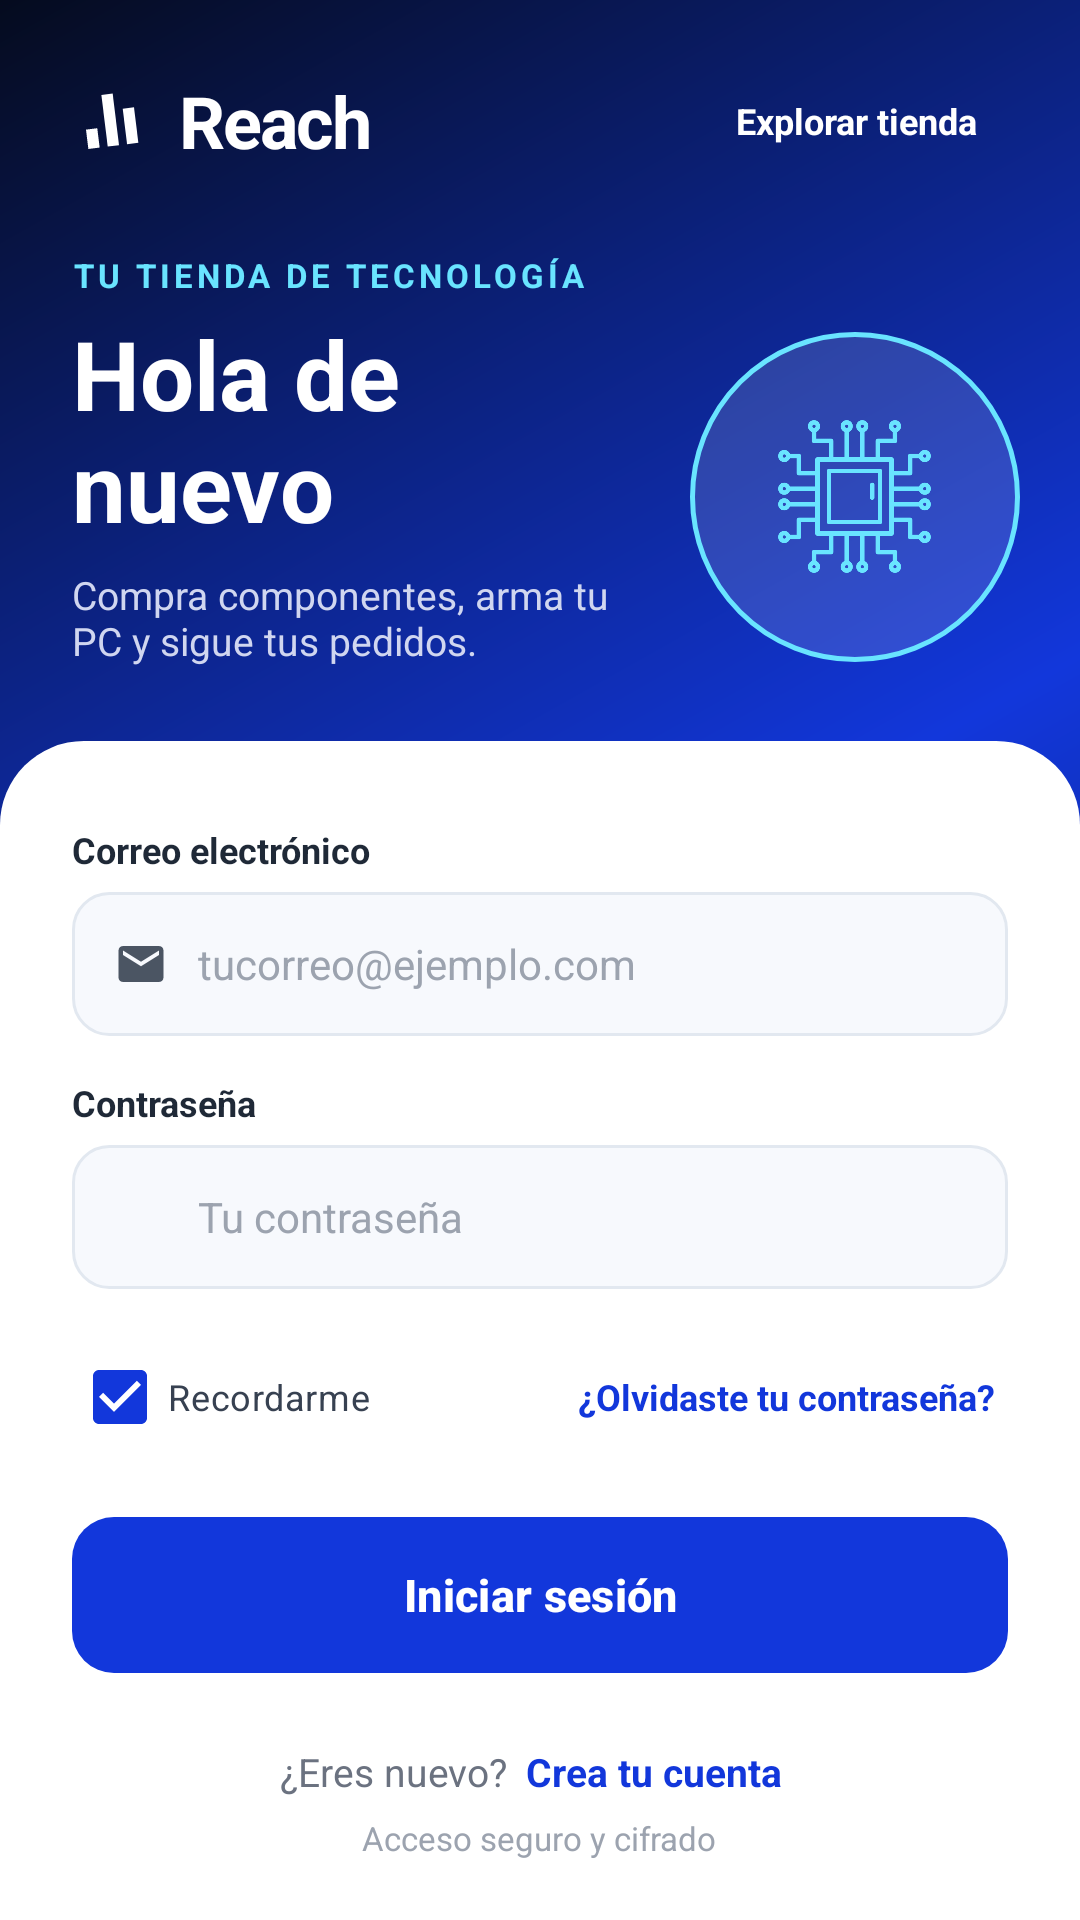

Where icons sit on this 1080w x 1920h app screen, as (x1, y1, x2, y2):
circuit: (778, 420, 931, 573)
mail: (118, 946, 164, 982)
